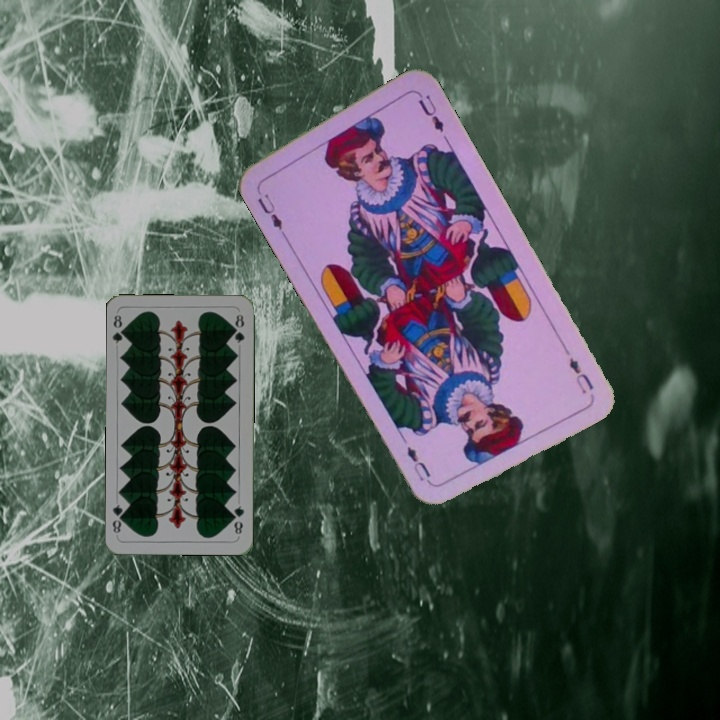EU: (252, 183, 288, 236), (565, 354, 596, 396)
G8: (109, 311, 129, 346), (229, 502, 247, 537)
